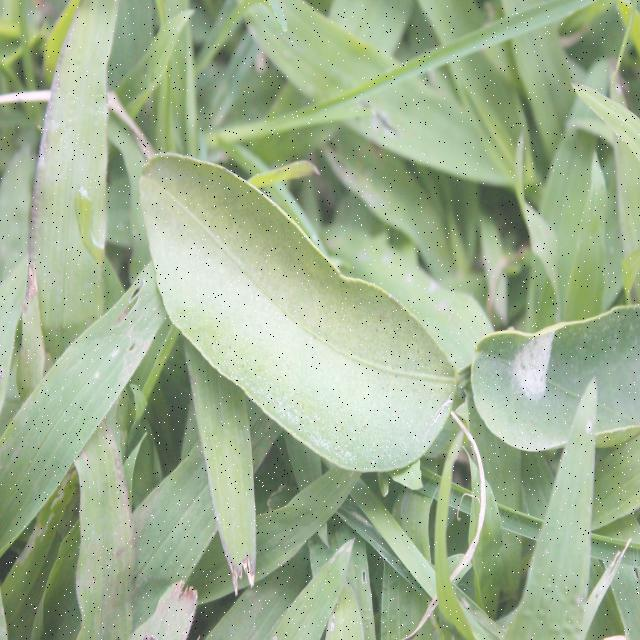blackspot: (160, 154, 443, 474)
